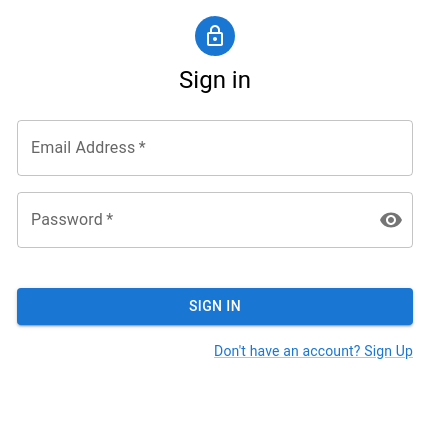
<SignIn /> › When signup link is clicked › Navigates to signin page
The width and height of the screenshot is (431, 448).
Click the link "Don't have an account? Sign Up".
click(314, 350)  # box [214,342,413,358]
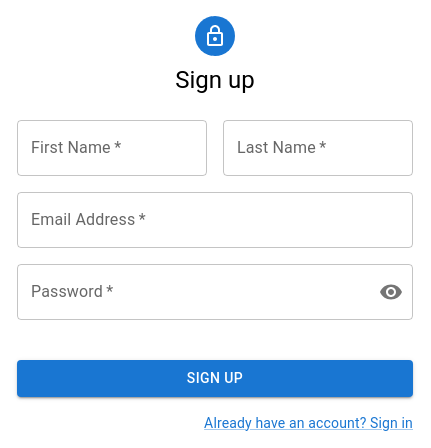
Result: the heading "Sign up" is shown at [175,64,255,96]
